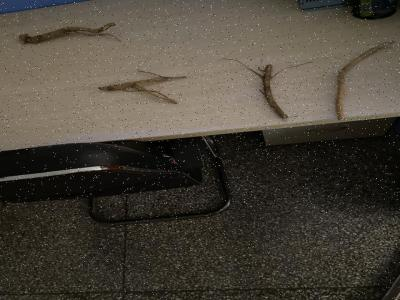Root: (335, 41, 394, 120), (230, 59, 287, 118), (99, 70, 186, 104), (19, 22, 121, 44)
